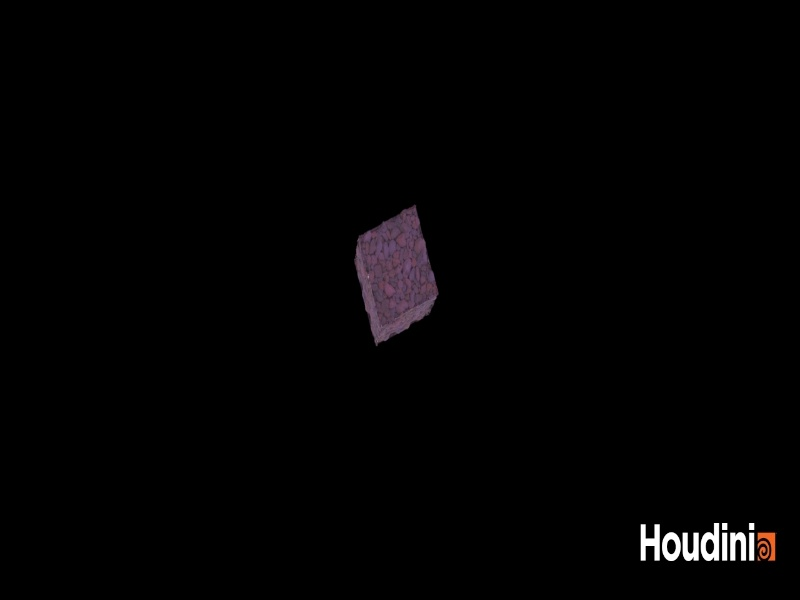waste: (348, 186, 463, 363)
